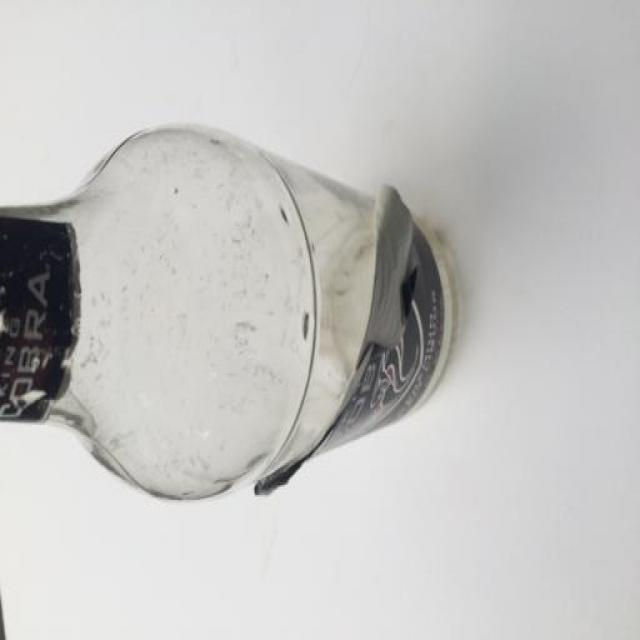Waste: (0, 127, 456, 499)
